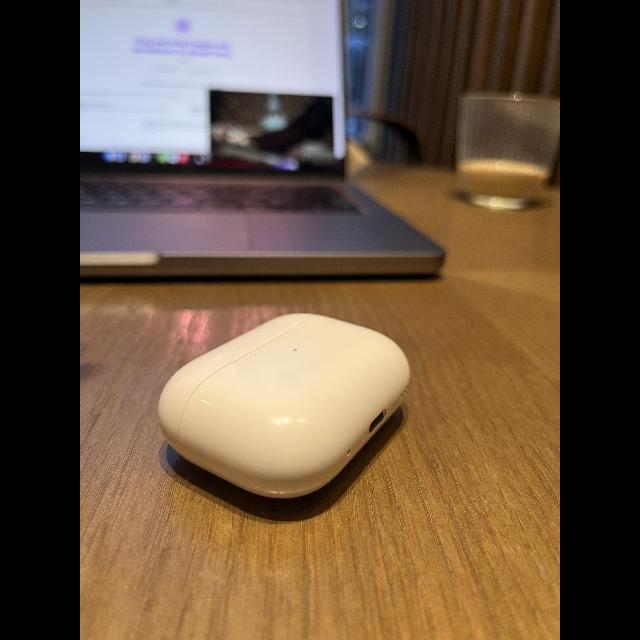AirPods Pro: (156, 308, 422, 520)
